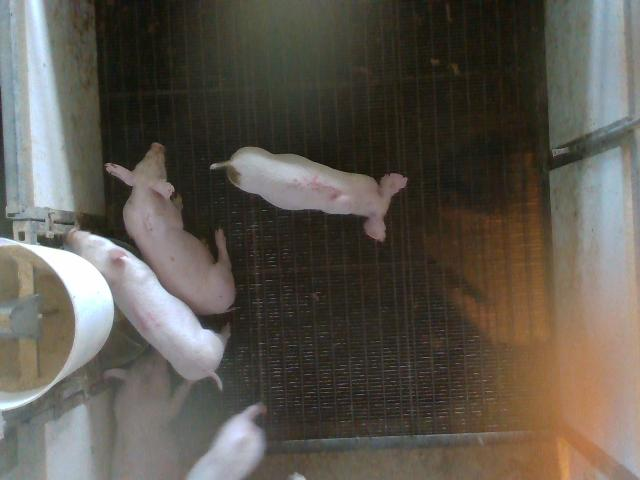pig-4: (66, 229, 229, 388)
pig-5: (210, 146, 408, 241)
